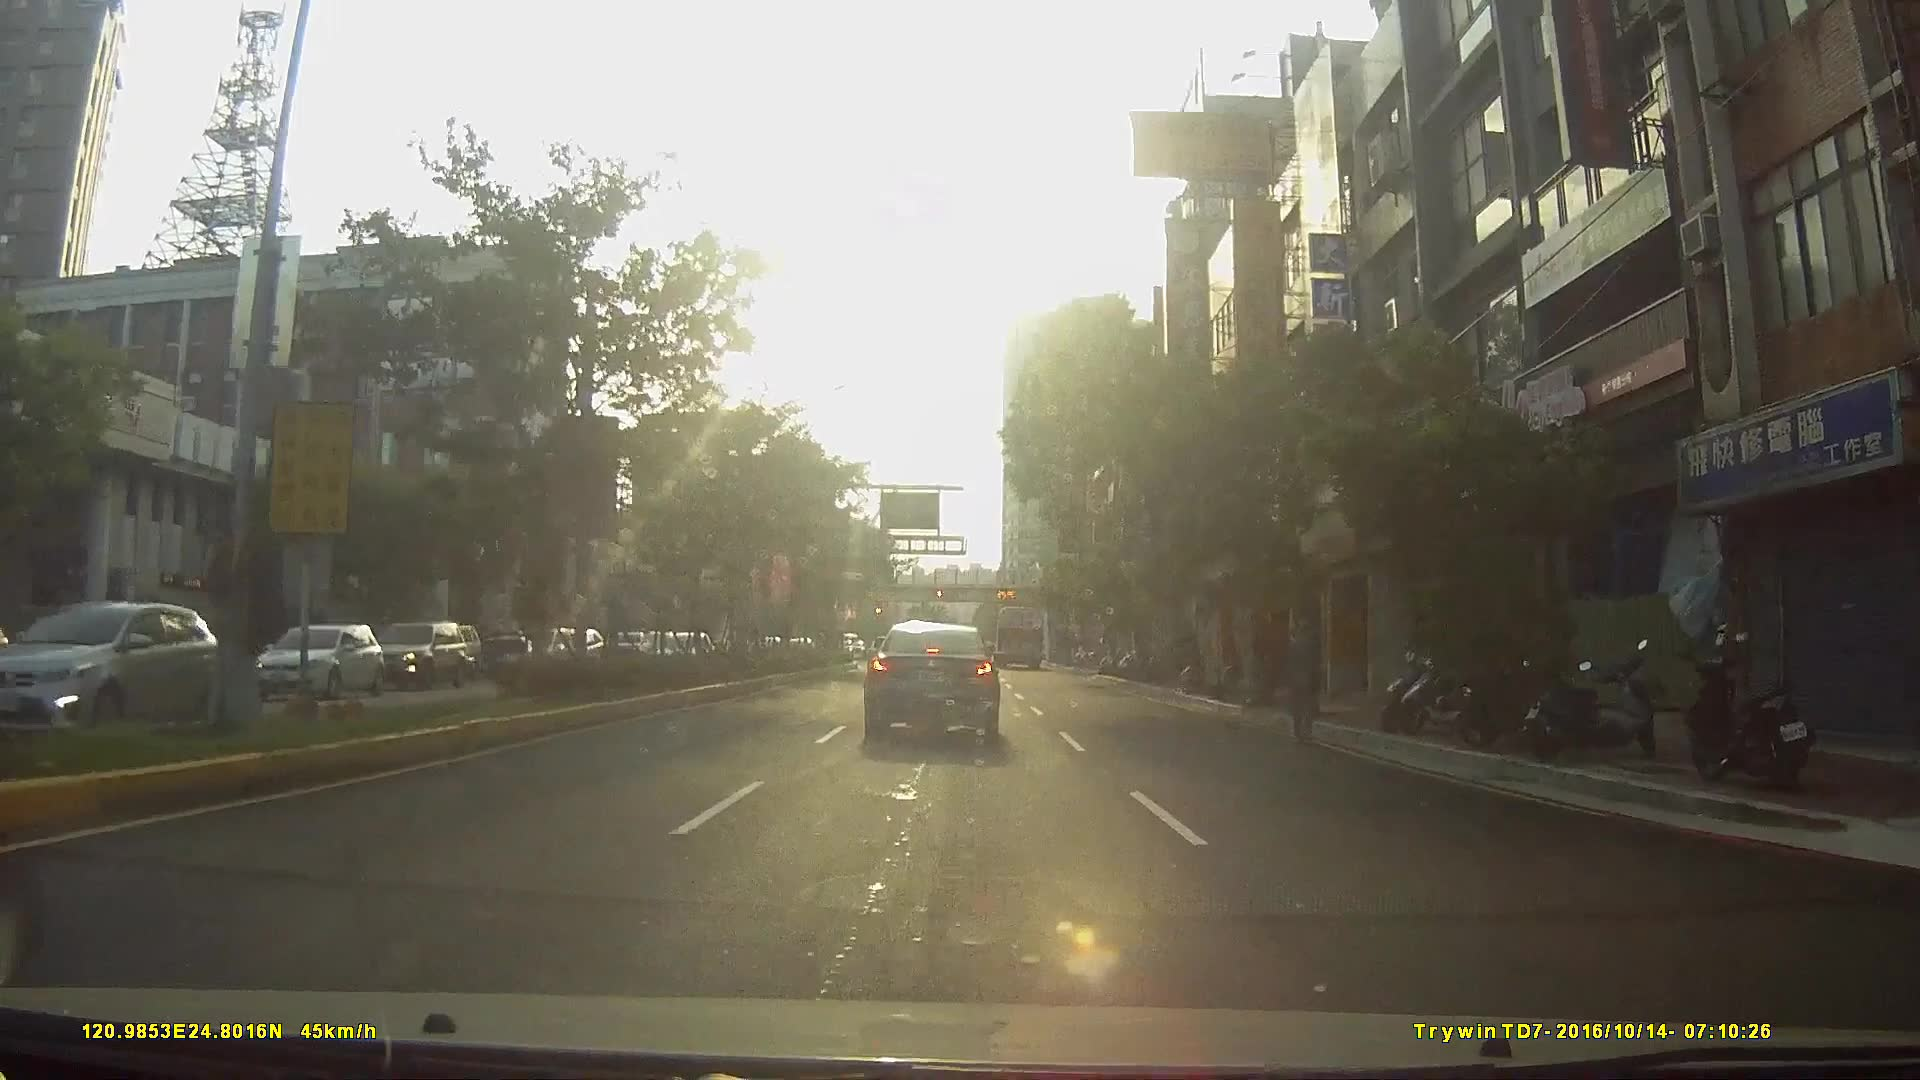pedestrian: (1282, 617, 1329, 743)
vehicle: (1, 597, 233, 735), (863, 617, 1000, 734), (241, 620, 400, 712), (352, 622, 476, 700), (414, 619, 481, 677), (994, 600, 1046, 667)
